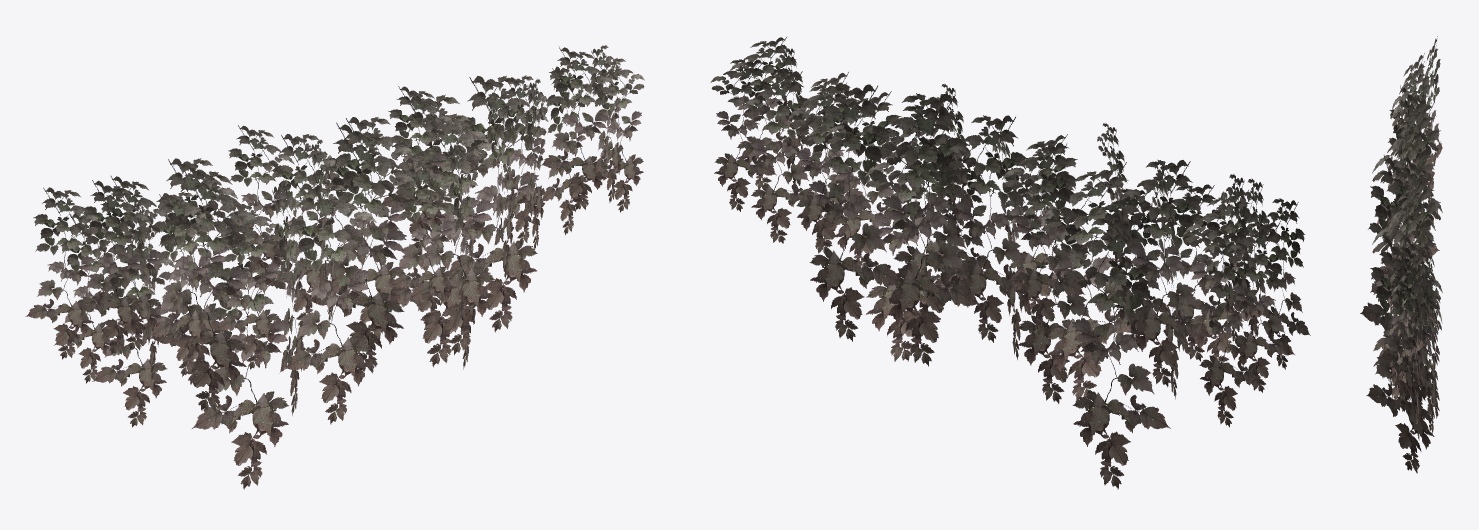
Rendered from Model_HangingPlant_04.fbx.
3 renders of one model, left to right at view 1: azimuth 30°, elevation 25°; view 2: azimuth 150°, elevation 25°; view 3: azimuth 270°, elevation 25°, orthographic. The views are drawn at different scales.
Parts seen in each view (by area): view 1: Ivy_Ledge; view 2: Ivy_Ledge; view 3: Ivy_Ledge.
Boxes of the visible parts, x1,y1,x2,y2 form: Ivy_Ledge: [25, 45, 644, 489]; Ivy_Ledge: [710, 37, 1310, 489]; Ivy_Ledge: [1360, 36, 1442, 473].
Bounding box in the file's own units: 328 × 188 × 55.97.
